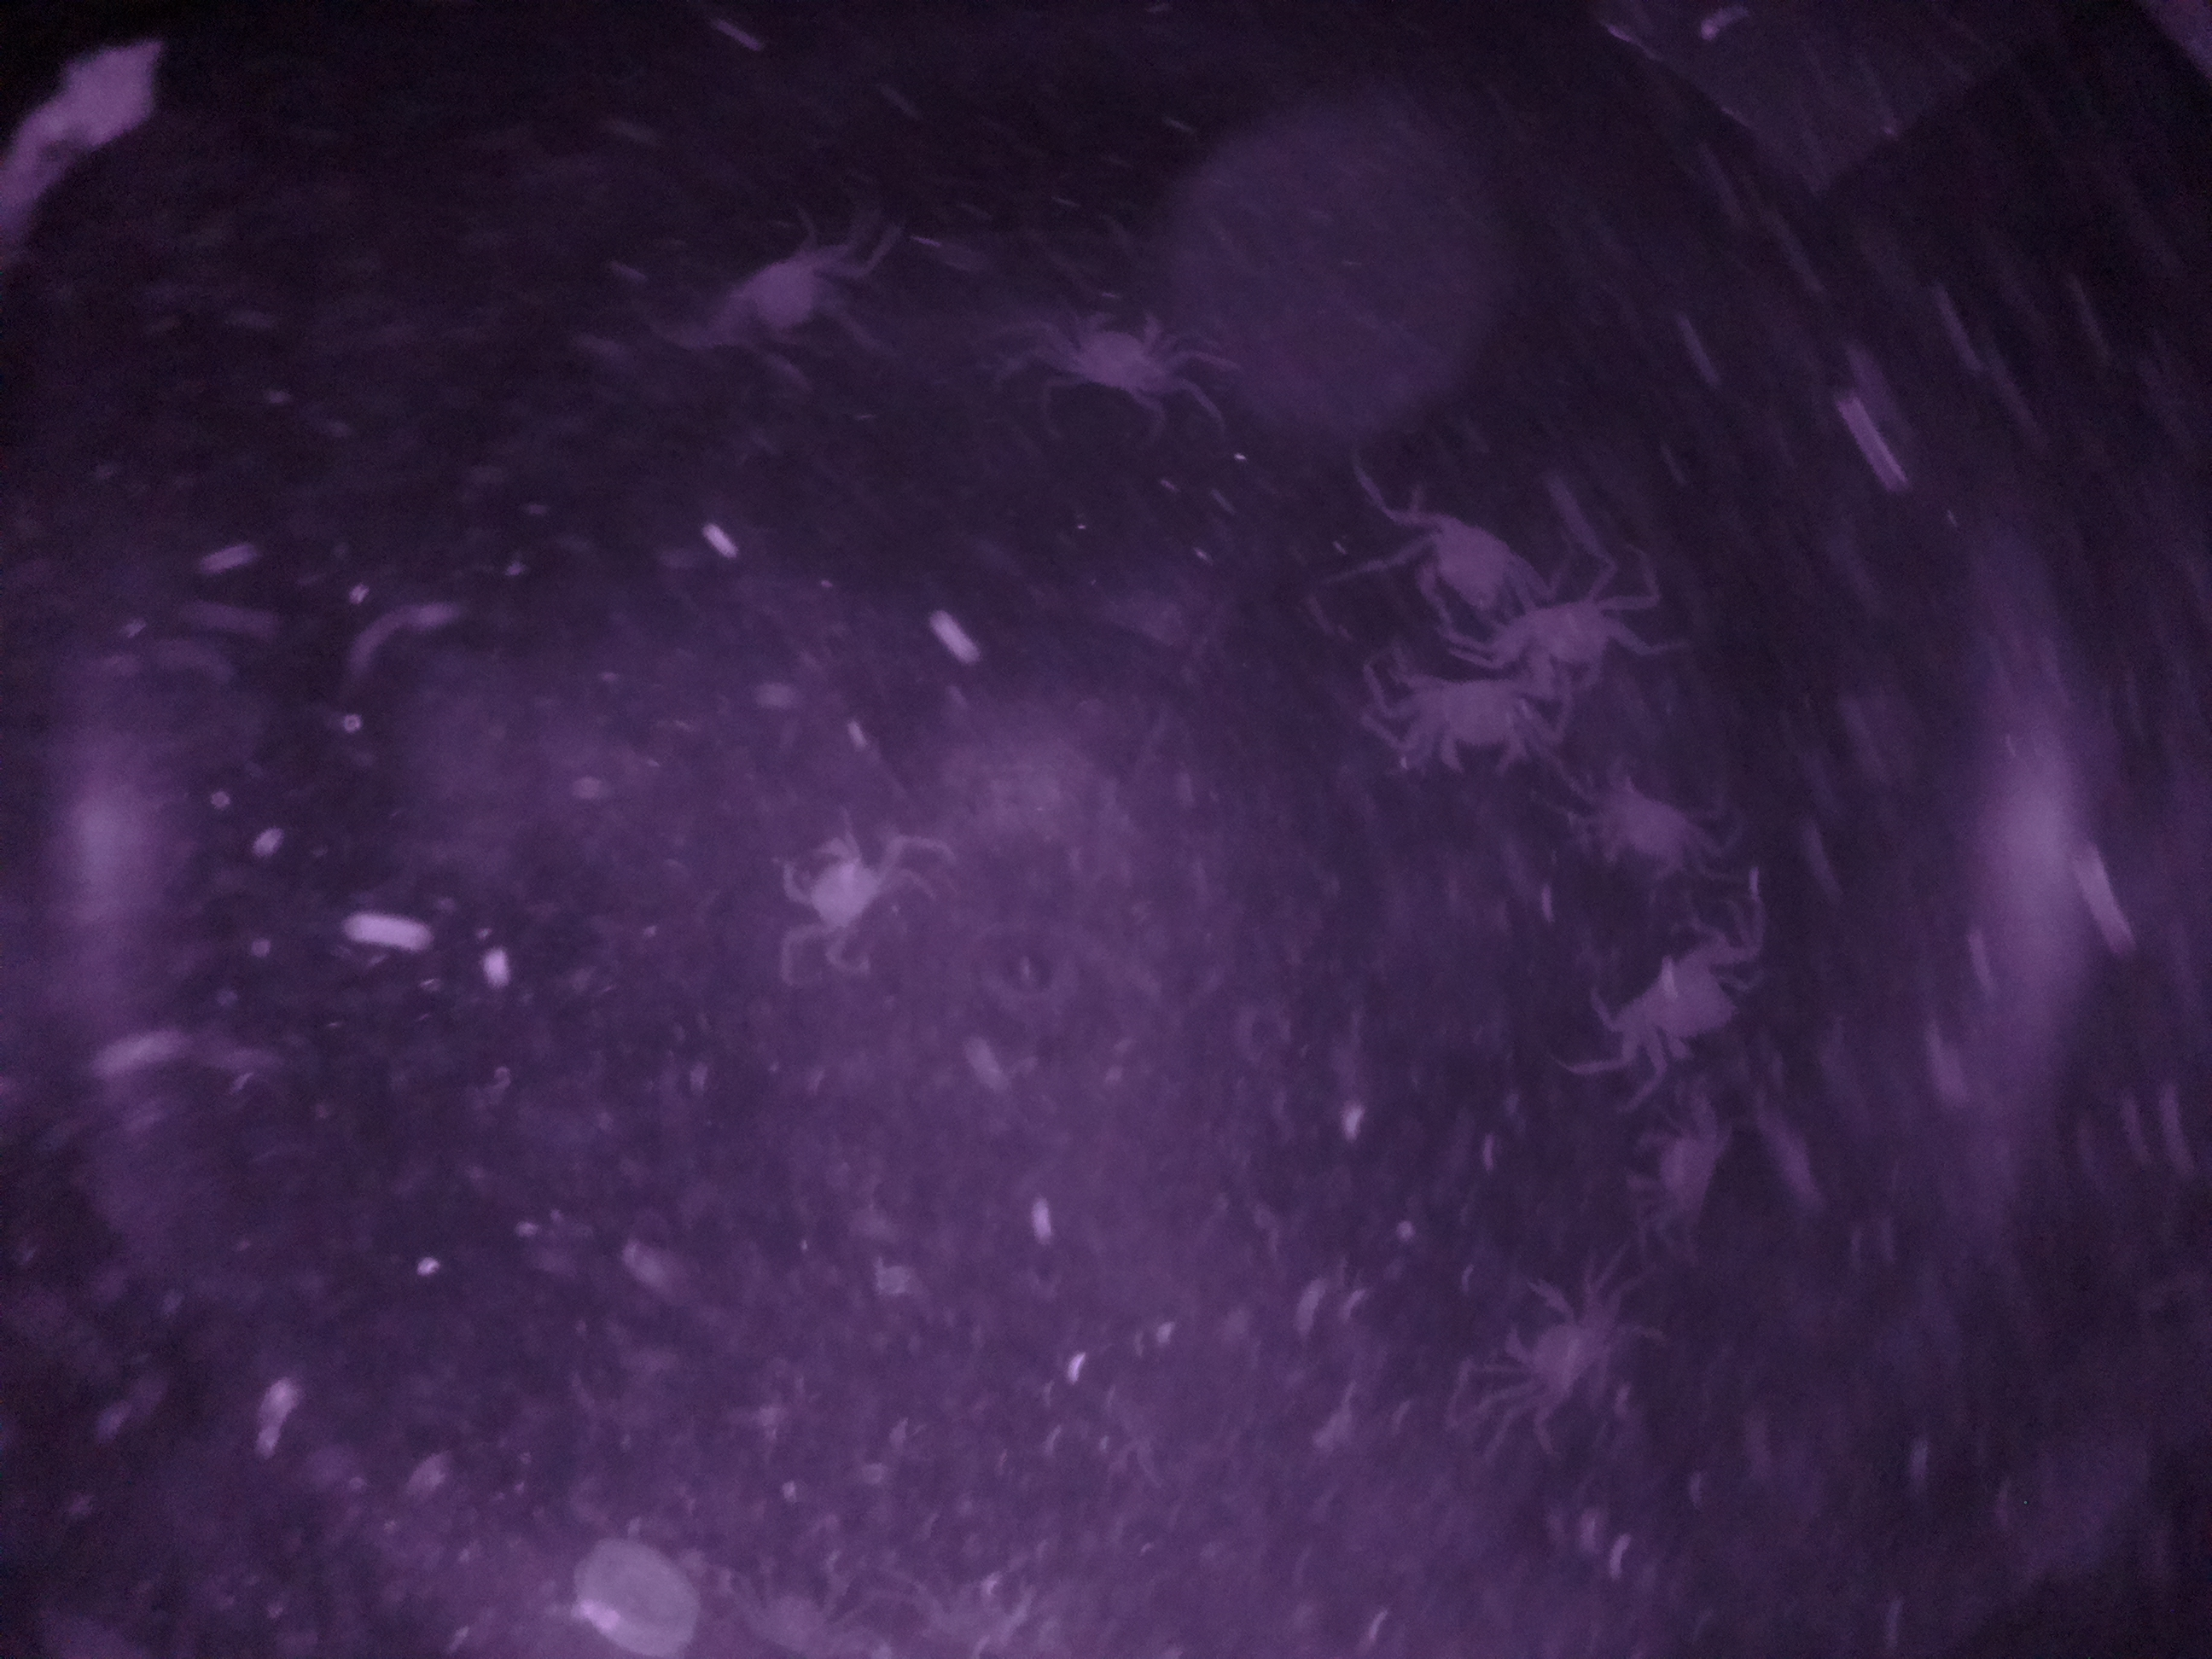Crab: (1489, 1258, 1639, 1429), (1413, 671, 1540, 795)
